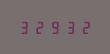nine: (48, 20, 62, 34)
three: (18, 20, 32, 34), (63, 20, 77, 34)
two: (33, 20, 47, 34), (78, 20, 92, 34)
